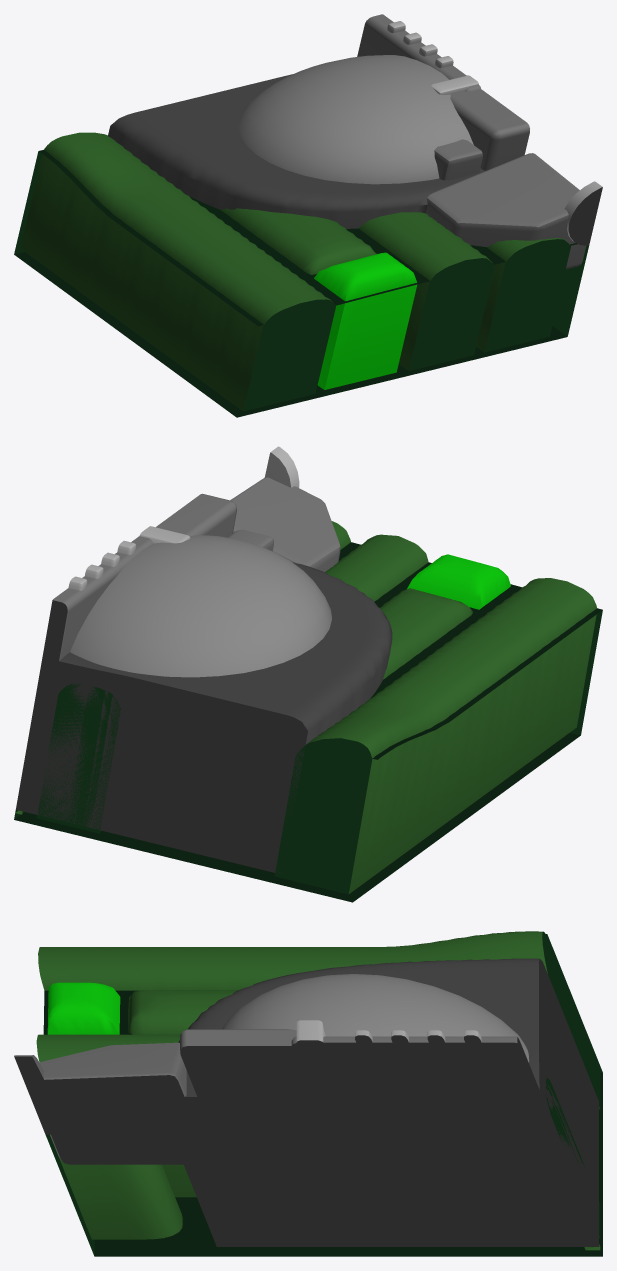
Rendered from green_shell_193.glb.
The picture shows the model from 3 angles, top to bottom: view 1: azimuth 30°, elevation 25°; view 2: azimuth 150°, elevation 25°; view 3: azimuth 270°, elevation 25°; orthographic projection. The views are drawn at different scales.
Parts seen in each view (by area): view 1: green_shell_193; view 2: green_shell_193; view 3: green_shell_193.
Part boxes in pixels (x1=…): green_shell_193: x1=14, y1=14, x2=602, y2=417; green_shell_193: x1=14, y1=446, x2=602, y2=902; green_shell_193: x1=14, y1=931, x2=602, y2=1256.
Bounding box in the file's own units: 24 × 13.45 × 32.43.
